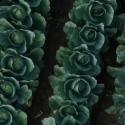cabbage: (71, 81, 91, 96), (9, 30, 27, 46), (8, 56, 26, 70), (61, 107, 79, 119), (0, 82, 14, 97), (12, 8, 27, 22), (78, 52, 92, 67), (84, 30, 98, 42), (93, 5, 106, 17), (0, 111, 11, 125)
